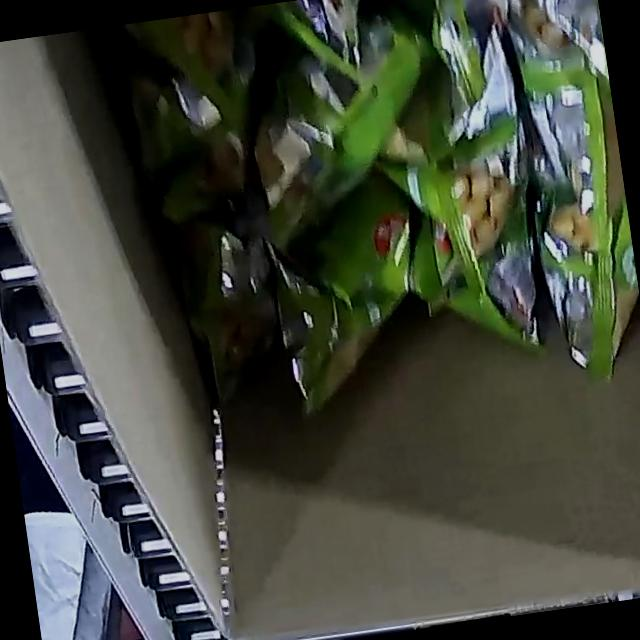yogurt: (60, 0, 640, 453)
